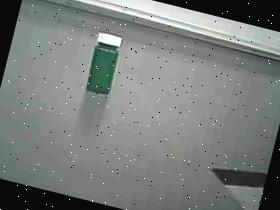Bottle C: (72, 22, 137, 106)
